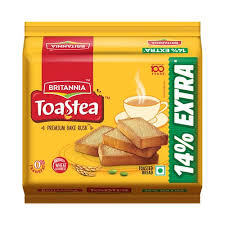Britania-toast-small: (22, 22, 202, 206)
